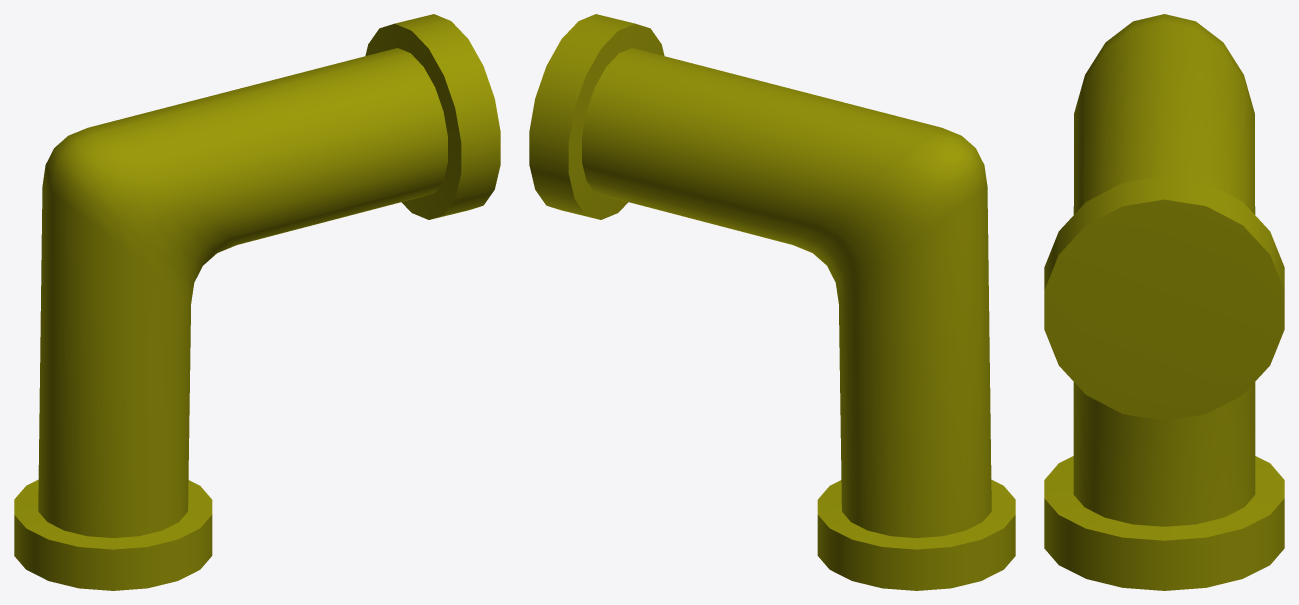
Rendered from Pipe Puzzle_P2 Pipe Modular_02.FBX.
3 renders of one model, left to right at view 1: azimuth 30°, elevation 25°; view 2: azimuth 150°, elevation 25°; view 3: azimuth 270°, elevation 25°, orthographic. The views are drawn at different scales.
Parts seen in each view (by area): view 1: pipe modular 02; view 2: pipe modular 02; view 3: pipe modular 02.
Boxes of the visible parts, x1,y1,x2,y2 form: pipe modular 02: (14, 14, 500, 590); pipe modular 02: (529, 14, 1015, 590); pipe modular 02: (1044, 14, 1284, 590).
Bounding box in the file's own units: 14.97 × 14.97 × 6.03.
